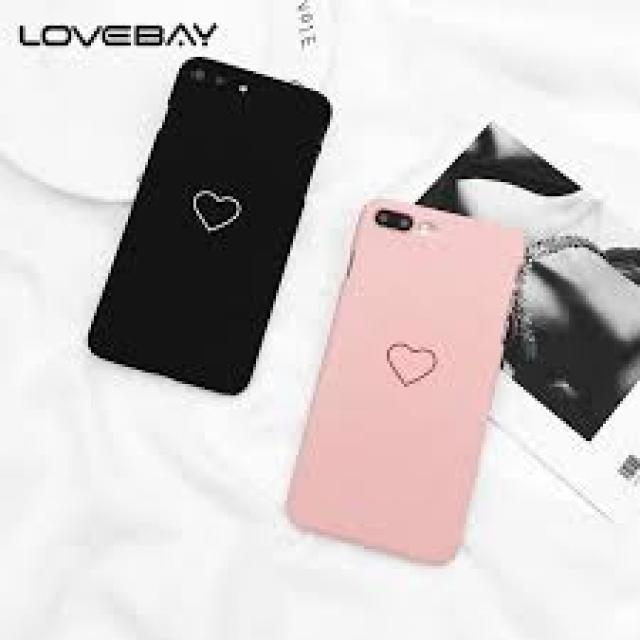phone: (281, 198, 529, 568), (89, 56, 334, 397)
